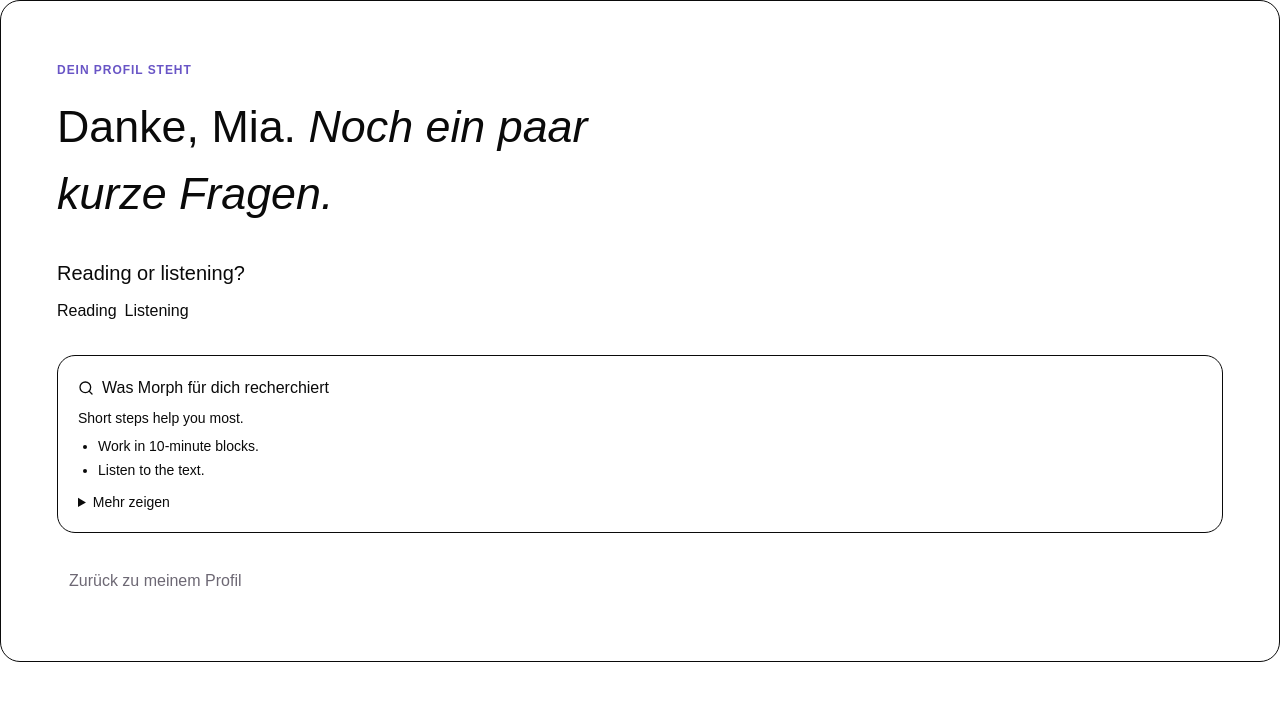
Scenario: AssessmentScreen research results › shows the first sentences only and folds the rest behind "Mehr zeigen"
Check: the text "Short steps help you most." is shown, box top-left (78, 410), bottom-right (244, 426)
Check: the list item "Work in 10-minute blocks." is shown, box top-left (98, 438), bottom-right (259, 454)
Click the text "Mehr zeigen".
click(131, 502)  # box top-left (93, 494), bottom-right (170, 510)
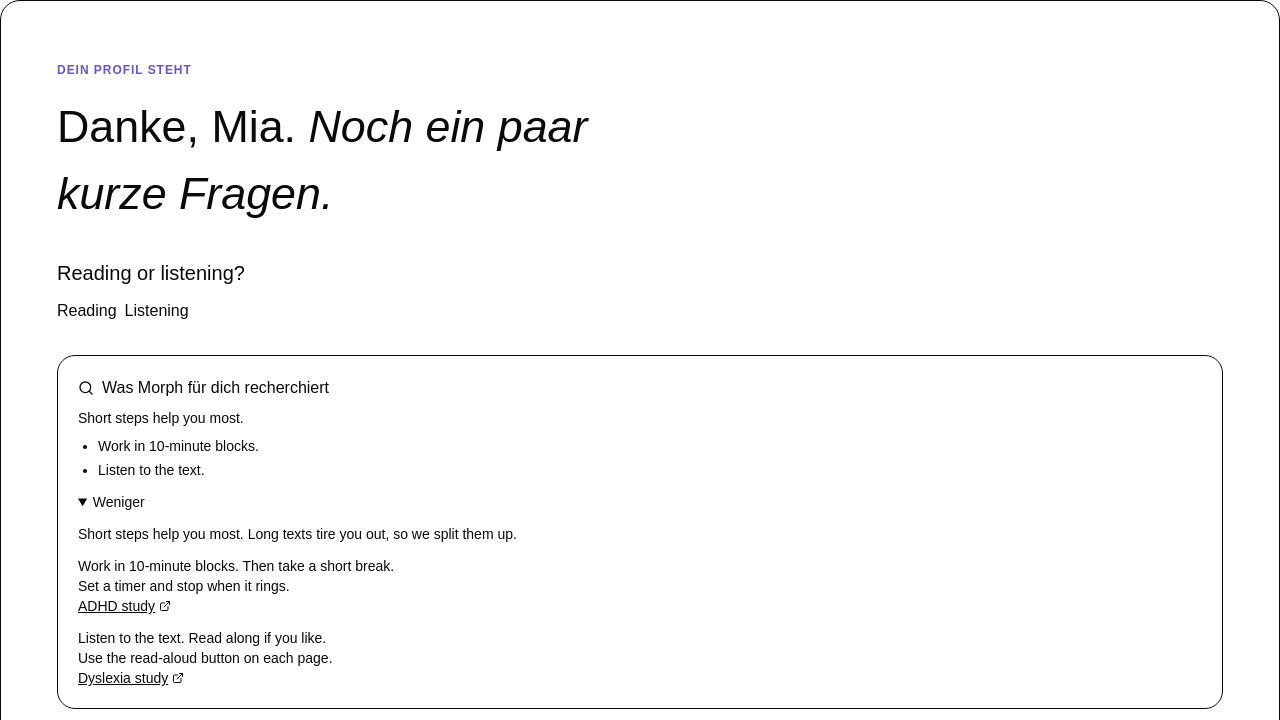
Check: the text "Set a timer and stop when it rings." is shown, box top-left (78, 578), bottom-right (290, 594)
Check: the link "ADHD study" is shown, box top-left (78, 596), bottom-right (171, 616)
